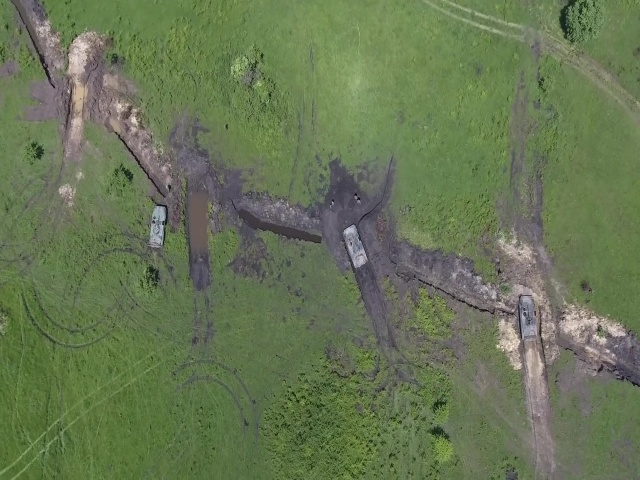vehicle: (341, 222, 368, 269), (518, 294, 539, 341), (147, 204, 167, 249)
